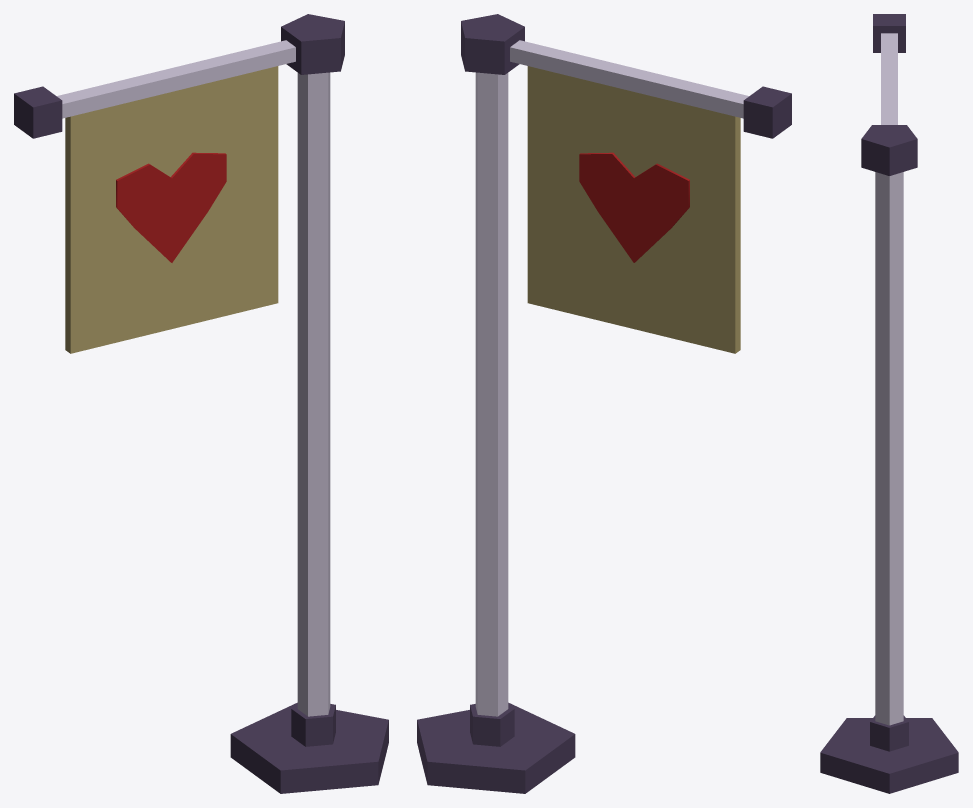
The model's file is FBX_FLAG.fbx.
The picture shows the model from 3 angles, left to right: view 1: azimuth 30°, elevation 25°; view 2: azimuth 150°, elevation 25°; view 3: azimuth 270°, elevation 25°; orthographic projection. The views are drawn at different scales.
Visible parts, largest first — view 1: pCylinder27; view 2: pCylinder27; view 3: pCylinder27.
Part boxes in pixels (box(x1,y1,x2,y2)): pCylinder27: box(14, 14, 388, 793); pCylinder27: box(417, 14, 791, 793); pCylinder27: box(820, 14, 958, 793).
Size of the model in its own units: 92.03 by 176 by 35.3.
